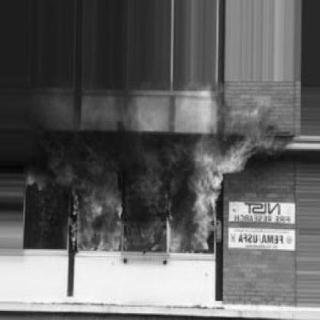Fire: (70, 171, 214, 255)
